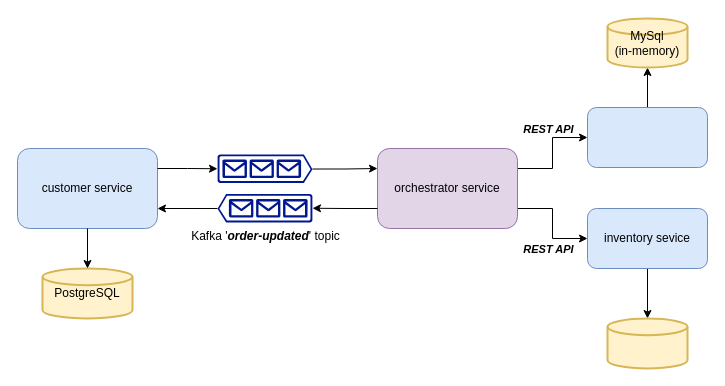
Some shapes in this 725 by 386 pixel diagram are drawn without their labels. Each missing label, with the box of its shape:
Kafka ' order-created ' topic: (217, 154, 312, 182)
MongoDB (in-memory): (606, 317, 688, 369)
payment service: (586, 106, 708, 168)
